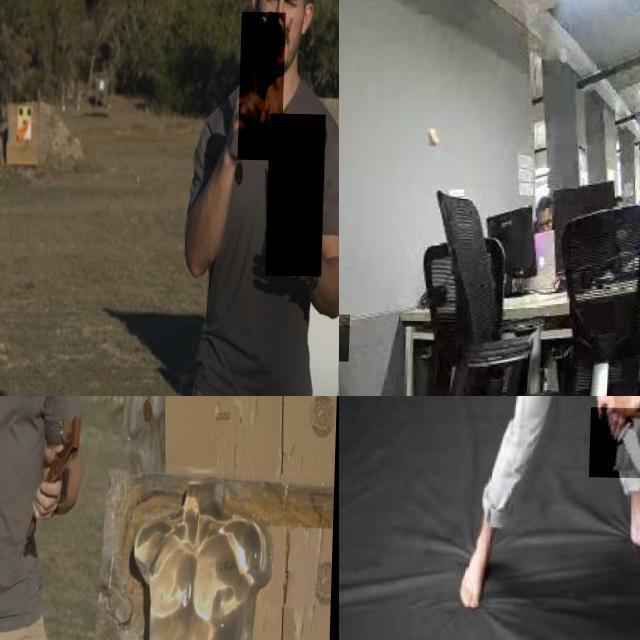-: (268, 112, 328, 274), (240, 10, 286, 159), (591, 405, 640, 477), (0, 396, 32, 495), (339, 312, 359, 359)
